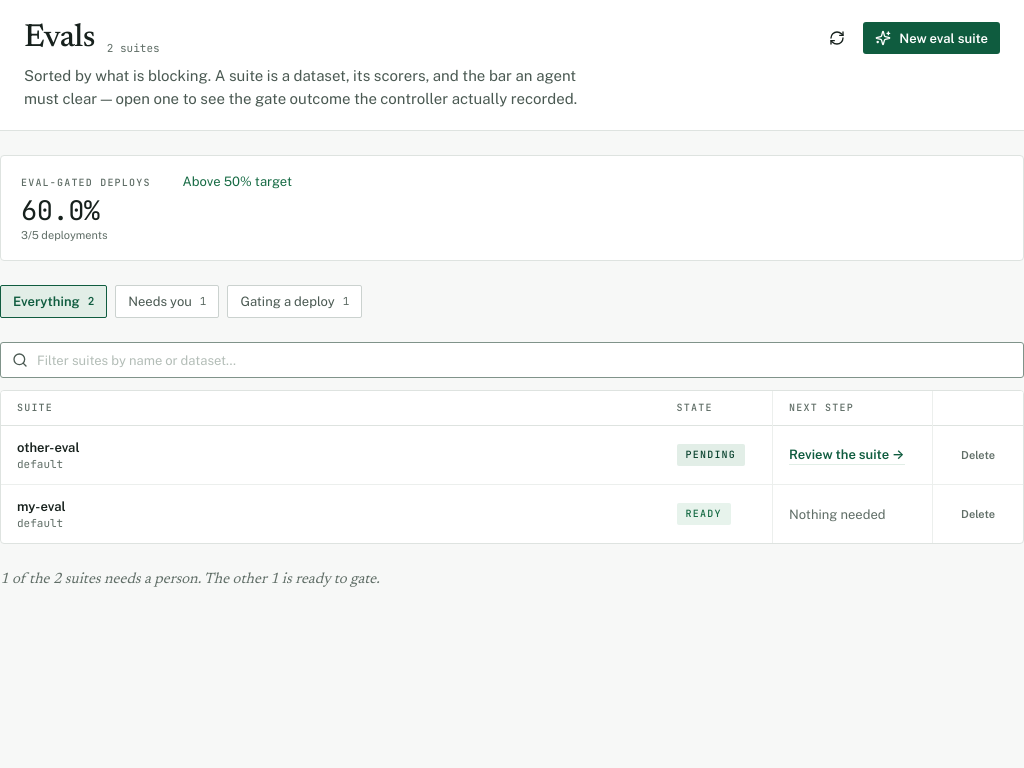
Test: EvalsPage › results: scoresAvailable=false → reason shown calmly, NO fabricated scores
The width and height of the screenshot is (1024, 768).
Click the element with test id "eval-suite-my-eval". click: (41, 514)
box: [17,499,66,530]
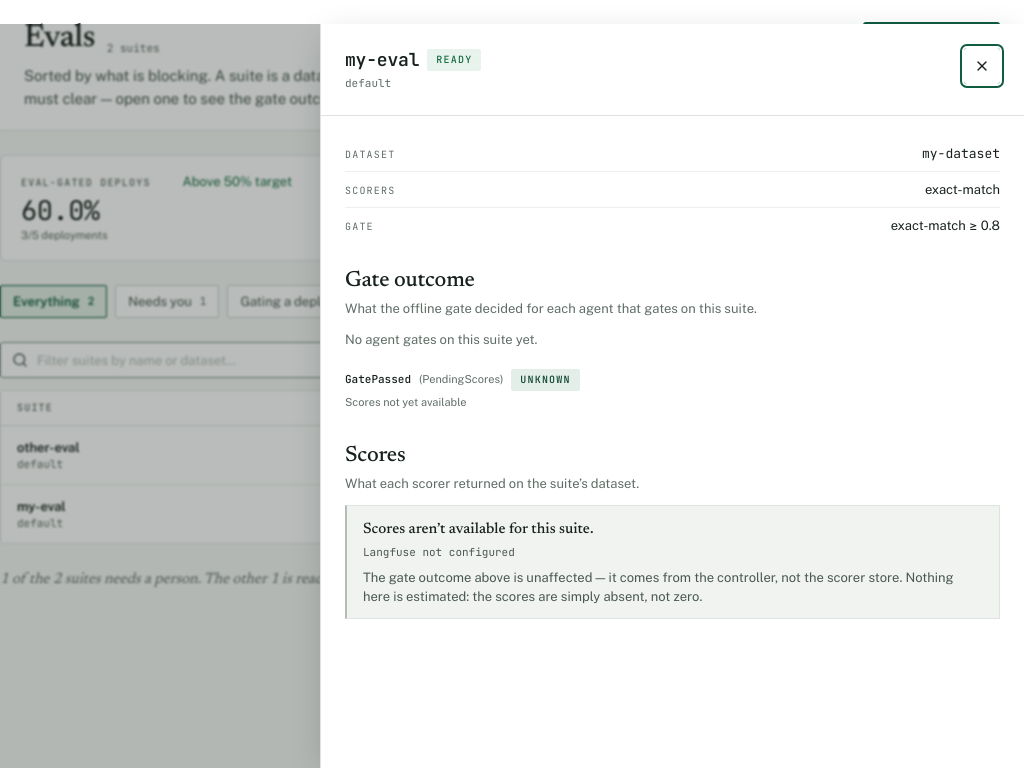
expect the element with test id "eval-results-panel-my-eval" is shown: met, box [345,267,1000,619]
expect the text "GatePassed" is shown: met, box [345,372,411,387]
expect the text "(PendingScores)" is shown: met, box [419,372,503,387]
